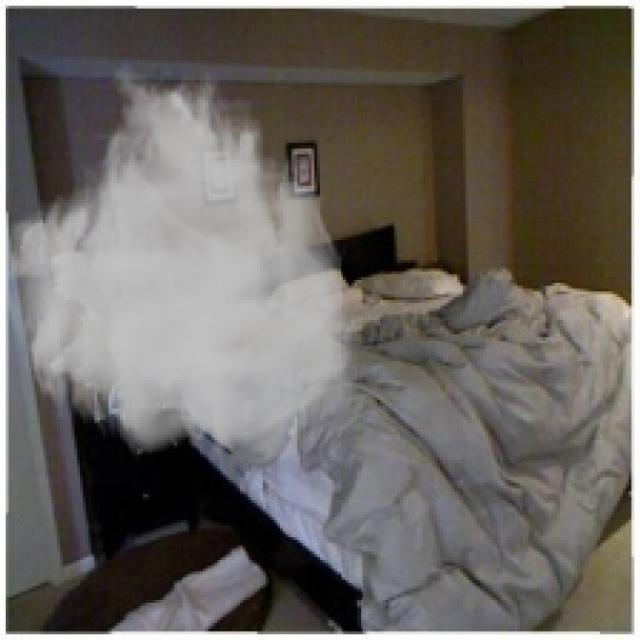smoke: (3, 60, 360, 474)
